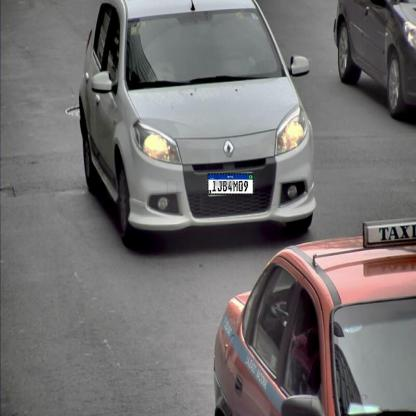PlacaM: (207, 173, 254, 195)
